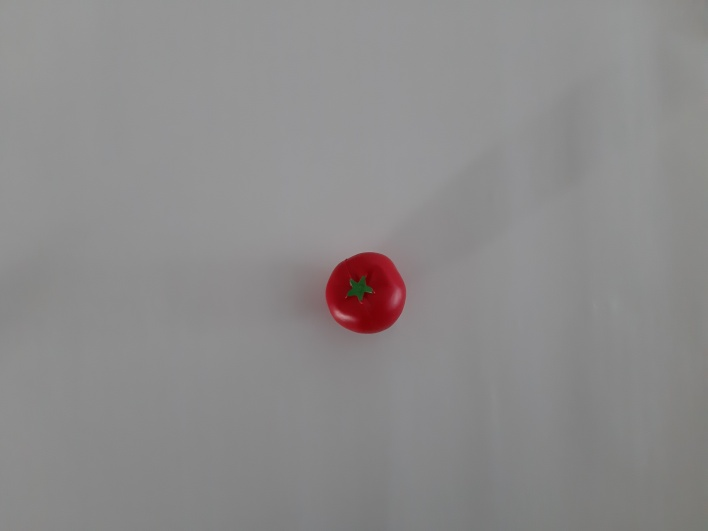tomato: (314, 241, 415, 349)
